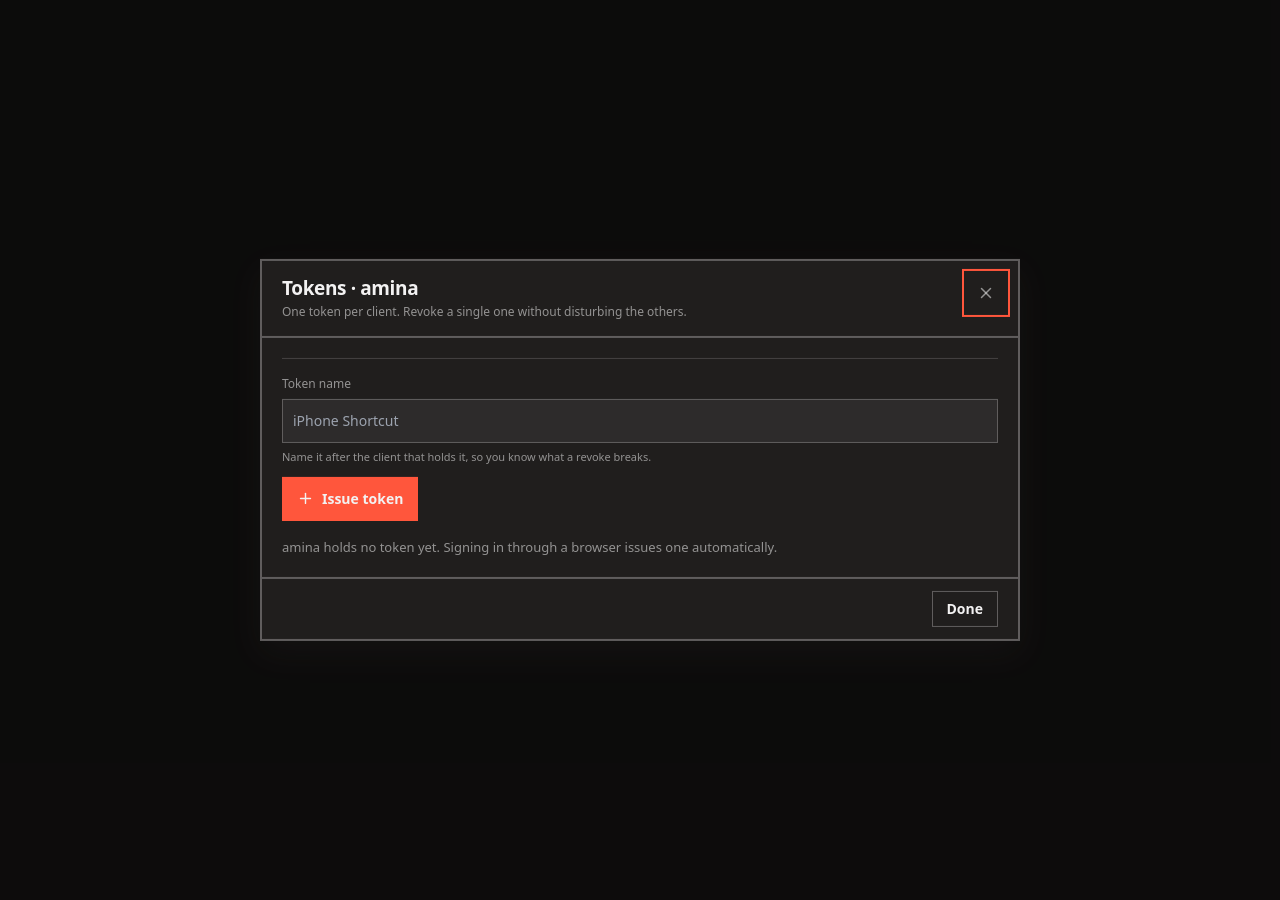
tokens › issues a named token and shows the secret once
In the field labelled "Token name": [640, 421] box [282,399,998,443], type "Bookmarklet"
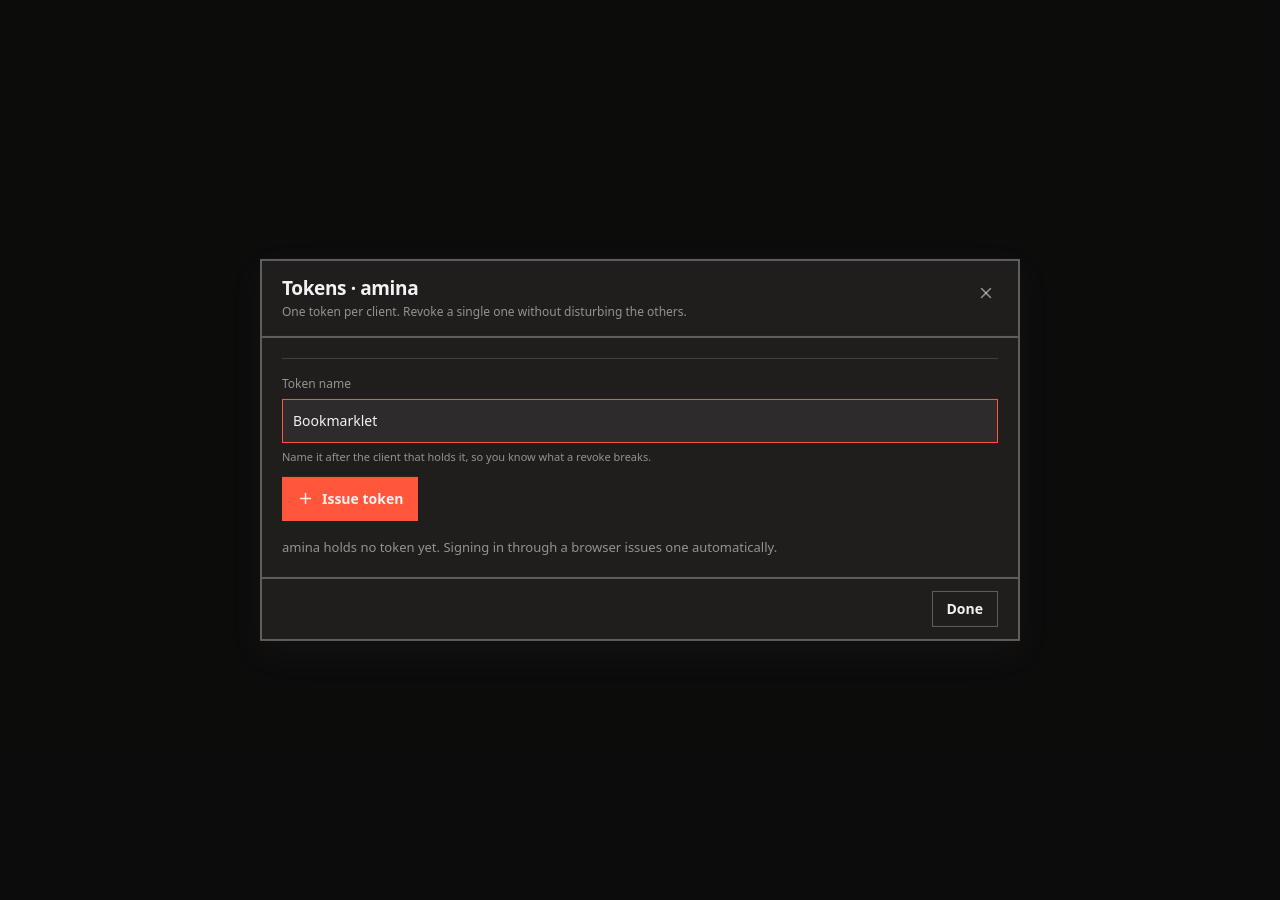
Click the button "Issue token": [350, 499] box [282,477,418,521]
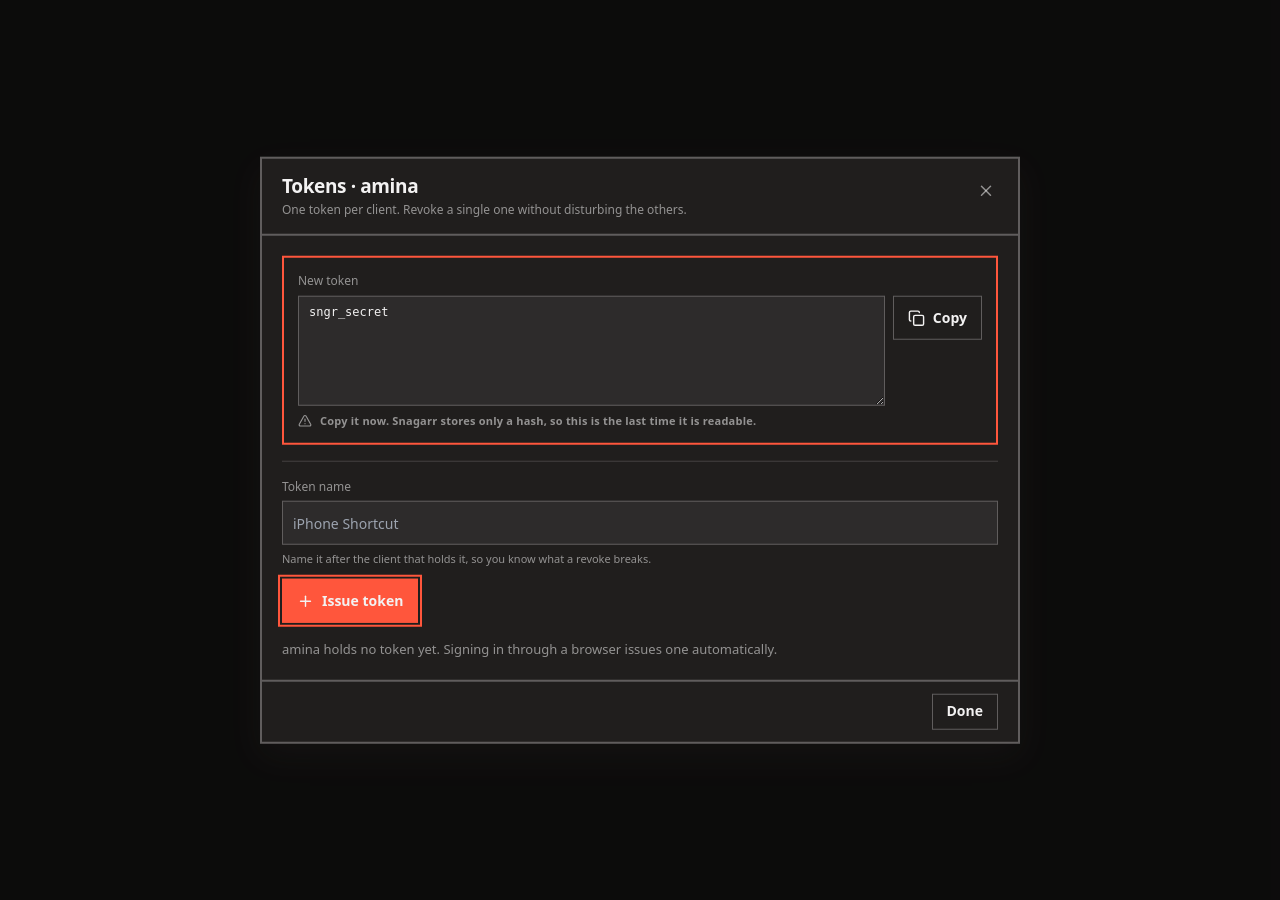
Check: the text box labelled "New token" holds "sngr_secret", box [298,296,885,406]
